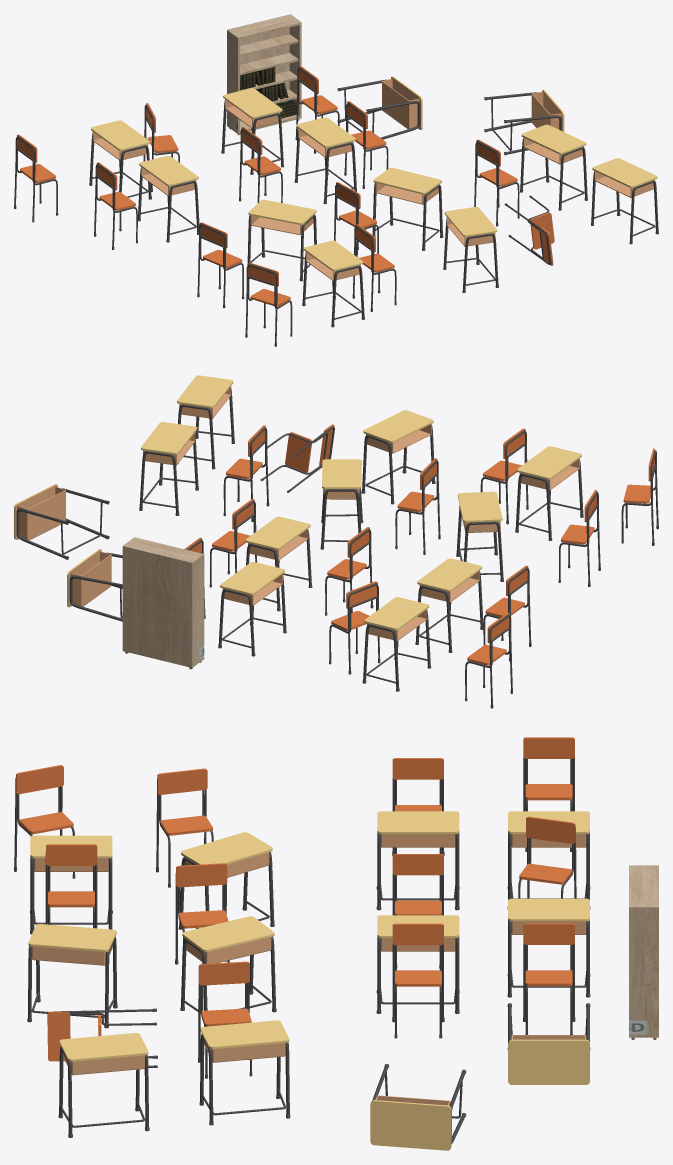
Rendered from salon n3.fbx.
3 views of the same model, one above another, from view 1: azimuth 30°, elevation 25°; view 2: azimuth 150°, elevation 25°; view 3: azimuth 270°, elevation 25° (orthographic). The views are drawn at different scales.
Parts seen in each view (by area): view 1: Bookcase.008, Mesa N40.055, Mesa N40.053, Mesa N40.054, Mesa N40.056, Mesa N40.051, Mesa N40.057, Mesa N40.058, Mesa N40.052, Mesa N40.060, Mesa N40.061, Mesa N40.062 (+13 smaller); view 2: Bookcase.008, Mesa N40.059, Mesa N40.052, Mesa N40.062, Mesa N40.061, Mesa N40.051, Mesa N40.054, Mesa N40.057, Mesa N40.053, Mesa N40.058, Mesa N40.056, Mesa N40.060 (+12 smaller); view 3: Bookcase.008, Mesa N40.059, Mesa N40.060, Mesa N40.054, Mesa N40.053, Mesa N40.052, Mesa N40.055, Mesa N40.057, Mesa N40.056, Mesa N40.061, Silla N40.062, Mesa N40.051 (+13 smaller).
Boxes of the visible parts, x1=… form: Bookcase.008: x1=227, y1=14, x2=301, y2=135; Mesa N40.055: x1=372, y1=167, x2=443, y2=250; Mesa N40.053: x1=591, y1=158, x2=658, y2=244; Mesa N40.054: x1=520, y1=124, x2=587, y2=210; Mesa N40.056: x1=247, y1=199, x2=316, y2=281; Mesa N40.051: x1=302, y1=240, x2=364, y2=327; Mesa N40.057: x1=138, y1=156, x2=199, y2=242; Mesa N40.058: x1=294, y1=117, x2=356, y2=204; Mesa N40.052: x1=443, y1=207, x2=498, y2=292; Mesa N40.060: x1=337, y1=76, x2=422, y2=139; Mesa N40.061: x1=221, y1=88, x2=284, y2=174; Mesa N40.062: x1=89, y1=120, x2=151, y2=199; Bookcase.008: x1=122, y1=537, x2=204, y2=669; Mesa N40.059: x1=14, y1=484, x2=109, y2=559; Mesa N40.052: x1=361, y1=410, x2=435, y2=504; Mesa N40.062: x1=362, y1=597, x2=431, y2=691; Mesa N40.061: x1=218, y1=562, x2=286, y2=656; Mesa N40.051: x1=515, y1=446, x2=583, y2=540; Mesa N40.054: x1=139, y1=422, x2=198, y2=515; Mesa N40.057: x1=415, y1=558, x2=483, y2=652; Mesa N40.053: x1=177, y1=375, x2=234, y2=469; Mesa N40.058: x1=245, y1=516, x2=312, y2=611; Mesa N40.056: x1=456, y1=491, x2=503, y2=581; Mesa N40.060: x1=67, y1=549, x2=122, y2=621; Bookcase.008: x1=629, y1=865, x2=658, y2=1039; Mesa N40.059: x1=370, y1=1064, x2=466, y2=1150; Mesa N40.060: x1=507, y1=1003, x2=590, y2=1084; Mesa N40.054: x1=199, y1=1020, x2=290, y2=1125; Mesa N40.053: x1=58, y1=1033, x2=149, y2=1137; Mesa N40.052: x1=27, y1=924, x2=117, y2=1028; Mesa N40.055: x1=180, y1=916, x2=276, y2=1026; Mesa N40.057: x1=376, y1=811, x2=459, y2=910; Mesa N40.056: x1=178, y1=832, x2=274, y2=929; Mesa N40.061: x1=507, y1=898, x2=590, y2=997; Silla N40.062: x1=392, y1=923, x2=444, y2=1038; Mesa N40.051: x1=30, y1=835, x2=112, y2=934.
Bounding box in the file's own units: 1157 × 225 × 986.
7 materials, 2 textured.
